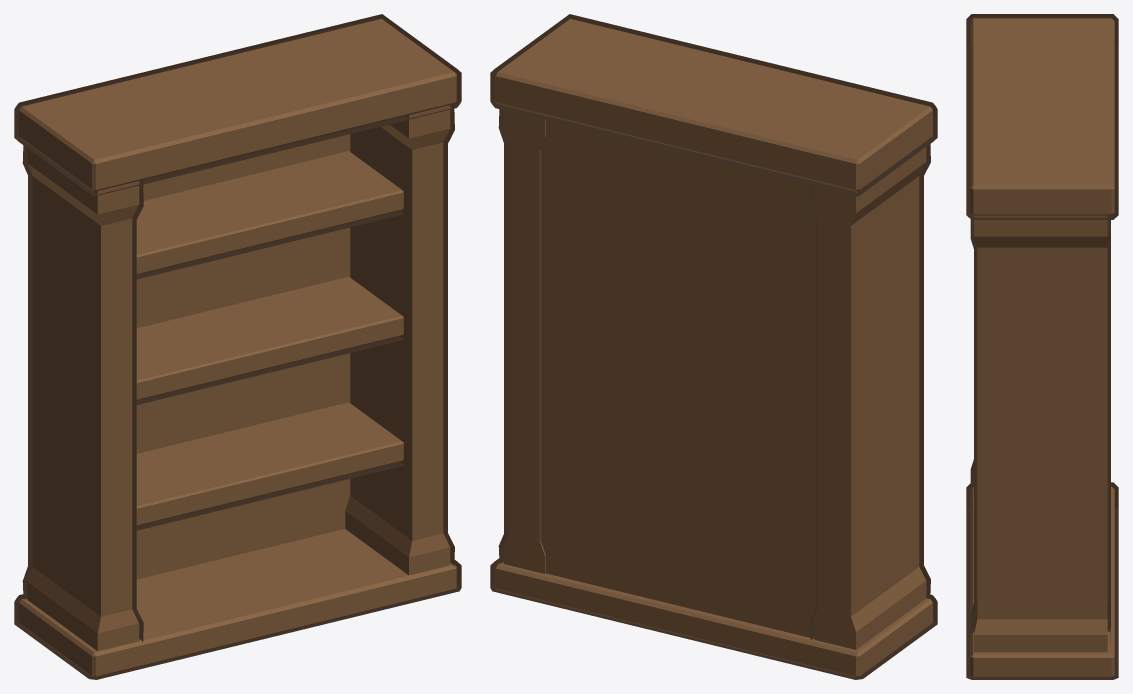
Rendered from library-bookcase.glb.
3 views of the same model, side by side, from view 1: azimuth 30°, elevation 25°; view 2: azimuth 150°, elevation 25°; view 3: azimuth 270°, elevation 25° (orthographic). The views are drawn at different scales.
Visible parts, largest first — view 1: library-bookcase, library-bookcase-outline; view 2: library-bookcase, library-bookcase-outline; view 3: library-bookcase, library-bookcase-outline.
Part boxes in pixels (x1,y1,x2,y2): library-bookcase: [19, 19, 456, 677]; library-bookcase-outline: [14, 14, 461, 679]; library-bookcase: [495, 19, 932, 677]; library-bookcase-outline: [490, 14, 937, 679]; library-bookcase: [970, 18, 1114, 677]; library-bookcase-outline: [966, 14, 1118, 679].
Bounding box in the file's own units: 1.6 × 2.14 × 0.5947.
